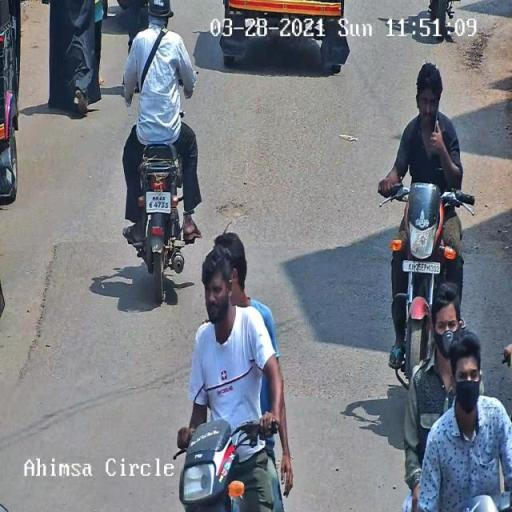using mobile: (420, 94, 446, 146)
